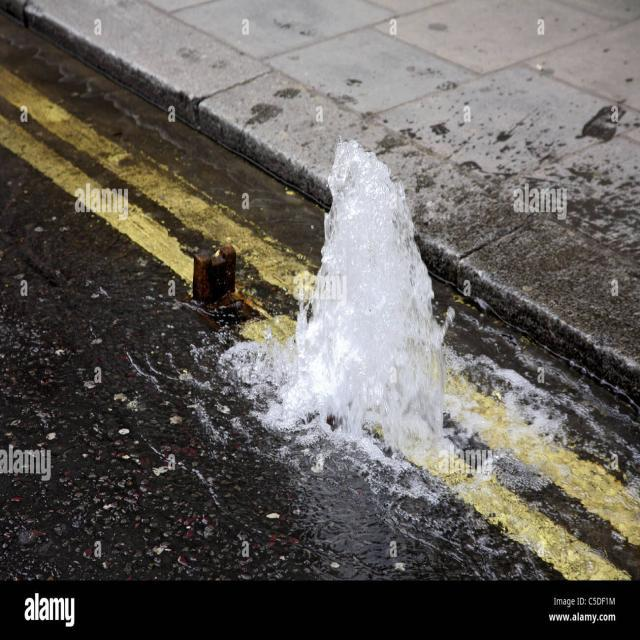water_leak: (232, 133, 475, 454)
